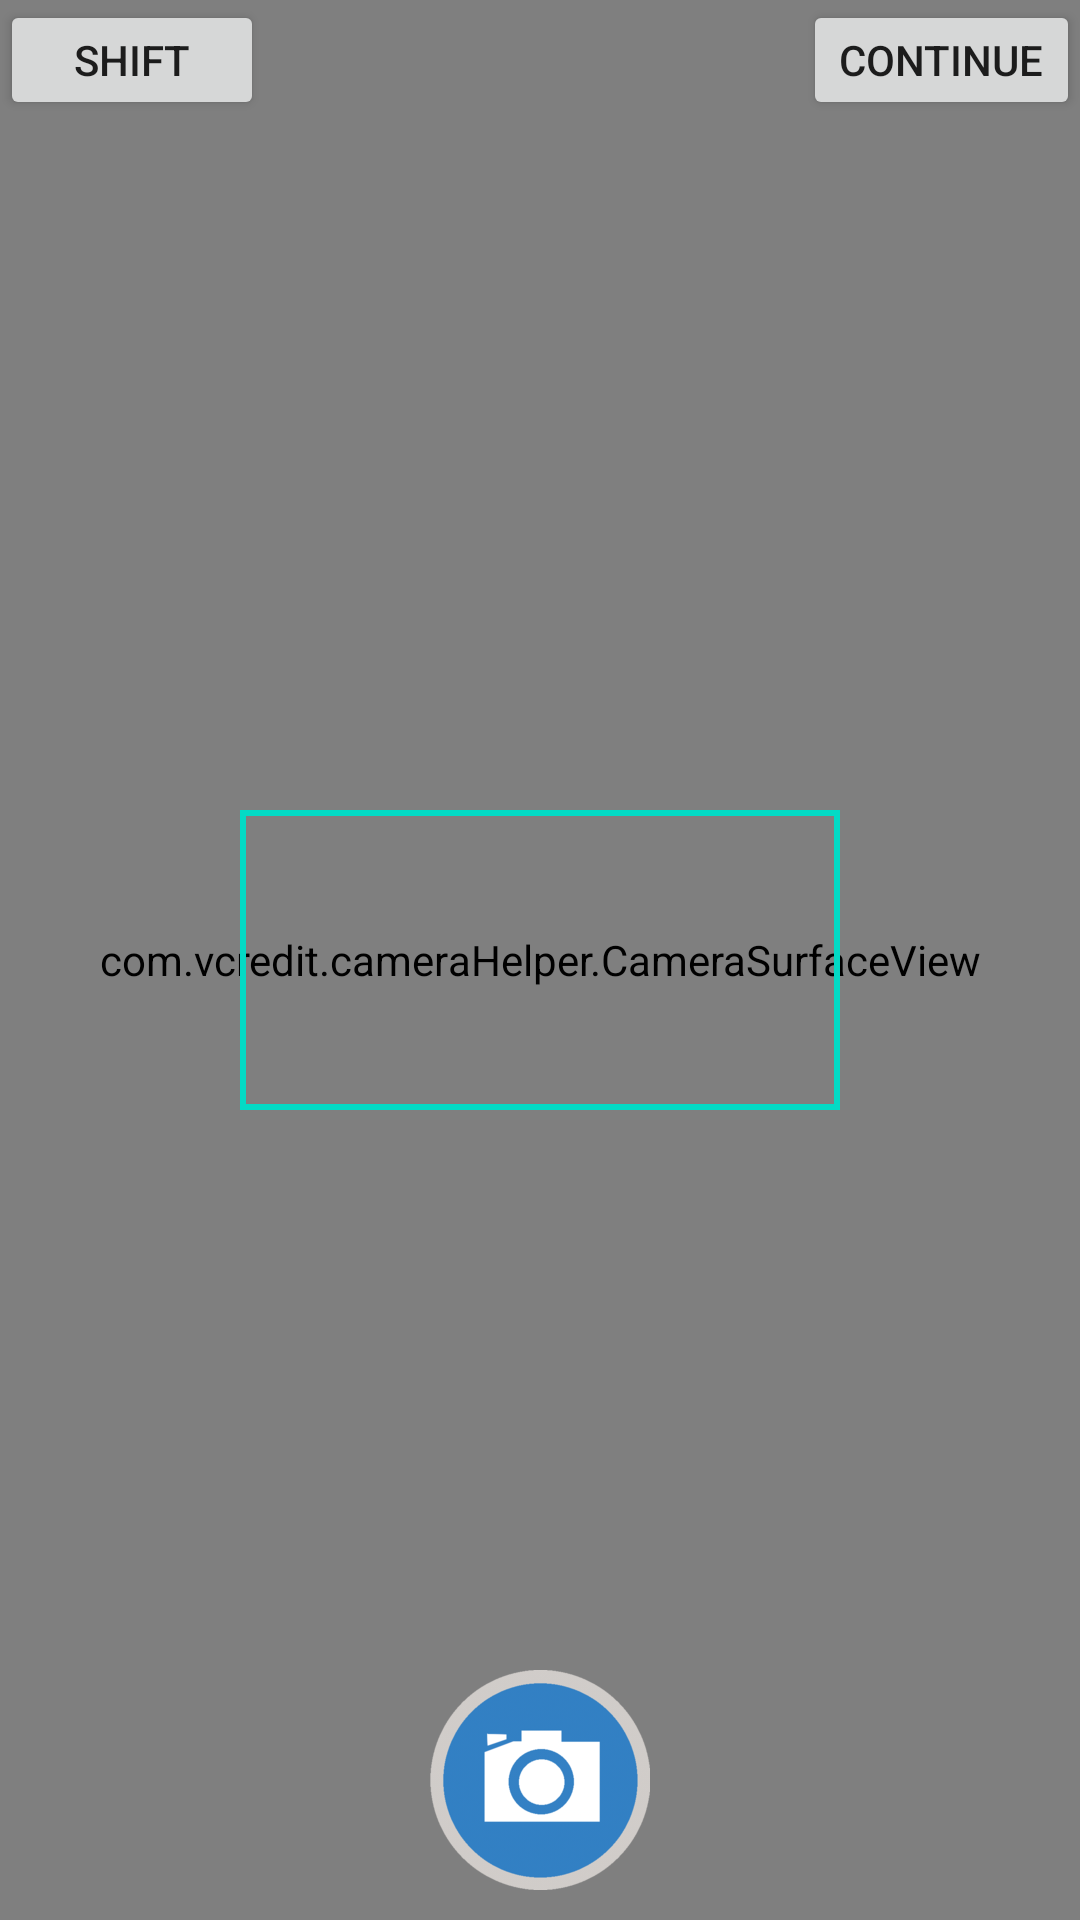

Named icons in this screenshot (1080x1920) and their bounding boxes, (x1, y1, x2, y2):
take photo: (430, 1670, 650, 1890)
